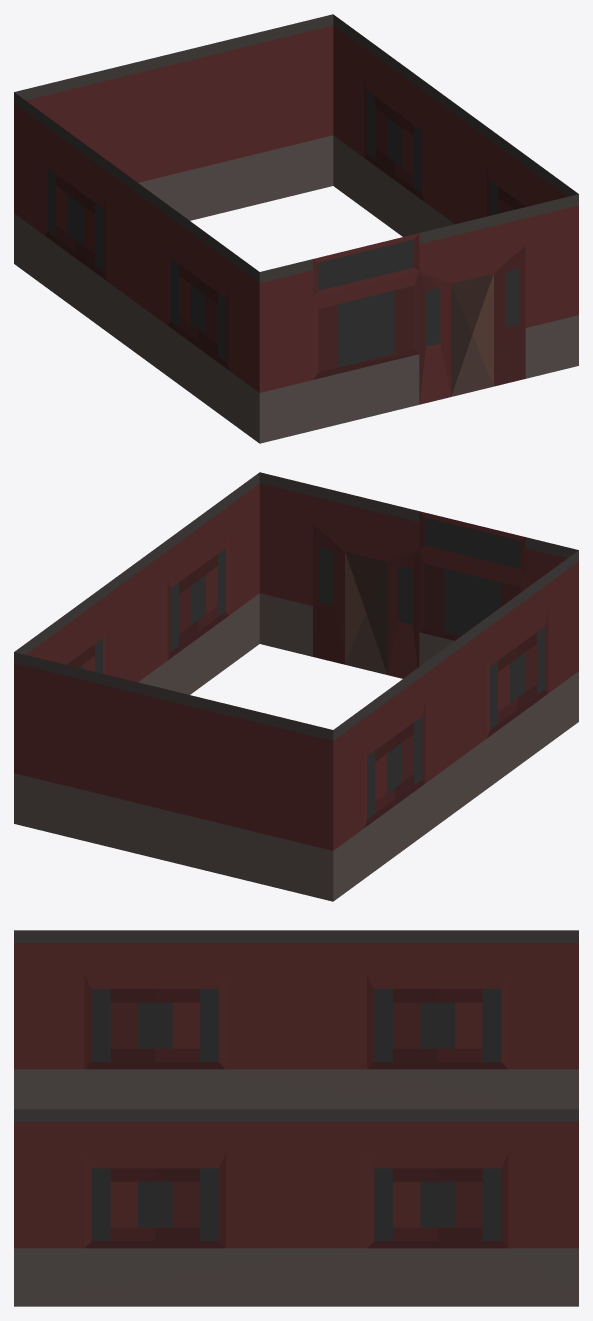
File: BuildingA-Sm_ALOD2.fbx
3 renders of one model, top to bottom at view 1: azimuth 30°, elevation 25°; view 2: azimuth 150°, elevation 25°; view 3: azimuth 270°, elevation 25°, orthographic. The views are drawn at different scales.
Parts seen in each view (by area): view 1: BuildingA-Sm_ALOD2; view 2: BuildingA-Sm_ALOD2; view 3: BuildingA-Sm_ALOD2.
Part boxes in pixels (x1,y1,x2,y2): BuildingA-Sm_ALOD2: (14, 14, 578, 443); BuildingA-Sm_ALOD2: (14, 472, 578, 901); BuildingA-Sm_ALOD2: (14, 930, 578, 1306).
Size of the model in its own units: 750 by 386 by 1000.
